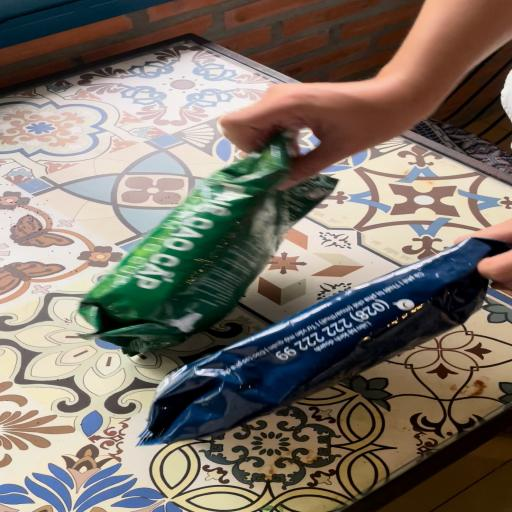cafe_hat: (139, 238, 509, 445)
cafe_xay: (79, 134, 336, 356)
